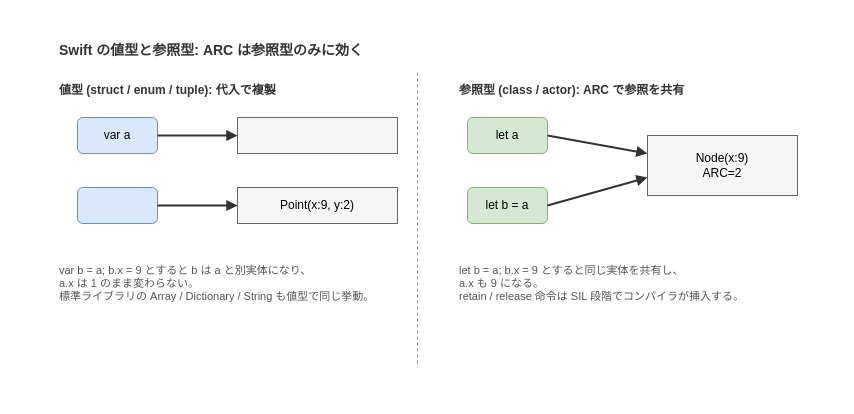
The diagram is 854 pixels wide and 414 high, and some of its shapes have lost their labels. Each missing label, with the centre of its shape:
"Point(x:1, y:2)" goes at (x=317, y=135).
"var b = a" goes at (x=117, y=205).
